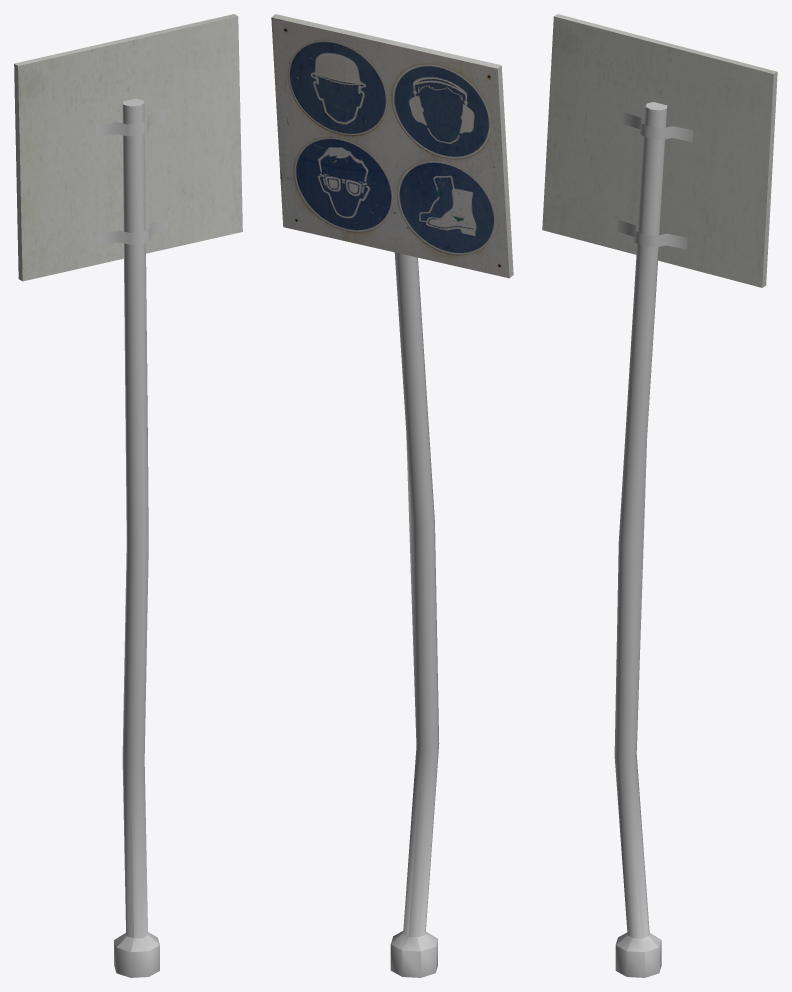
The model's file is sign01_LOD1.fbx.
3 renders of one model, left to right at view 1: azimuth 30°, elevation 25°; view 2: azimuth 150°, elevation 25°; view 3: azimuth 330°, elevation 25°, orthographic. The views are drawn at different scales.
Visible parts, largest first — view 1: Mesh_Object; view 2: Mesh_Object; view 3: Mesh_Object.
Part boxes in pixels (x1=…): Mesh_Object: x1=14, y1=14, x2=242, y2=977; Mesh_Object: x1=271, y1=14, x2=513, y2=977; Mesh_Object: x1=542, y1=14, x2=777, y2=977.
Bounding box in the file's own units: 54.47 × 213 × 13.89.
